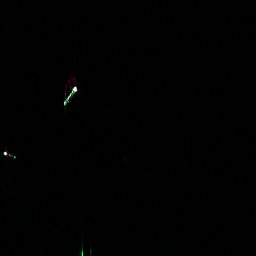ship: (60, 83, 79, 107), (1, 149, 18, 160)
